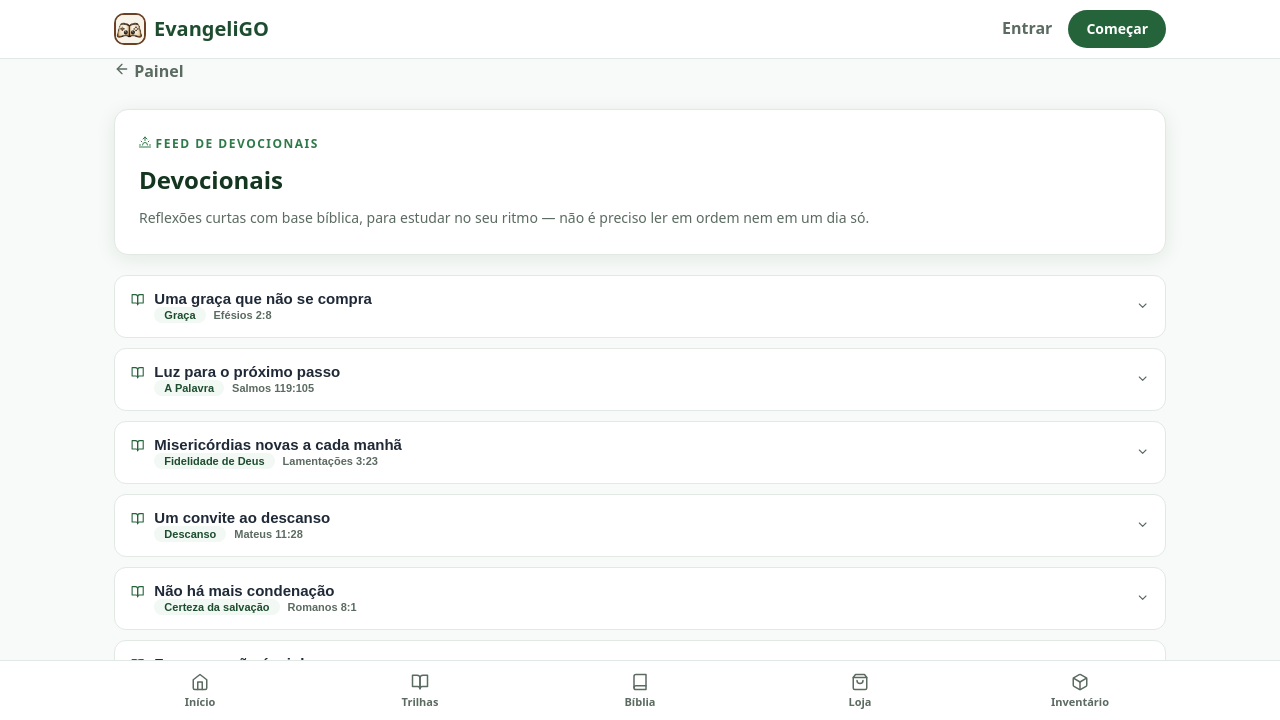
Test: FeedDevocionaisPage › expande um devocional ao clicar (accordion no lugar) e mostra reflexão e aplicação
Click the button "Uma graça que não se compra Graça Efésios 2:8" at (263,298), box [115,276,1165,337]
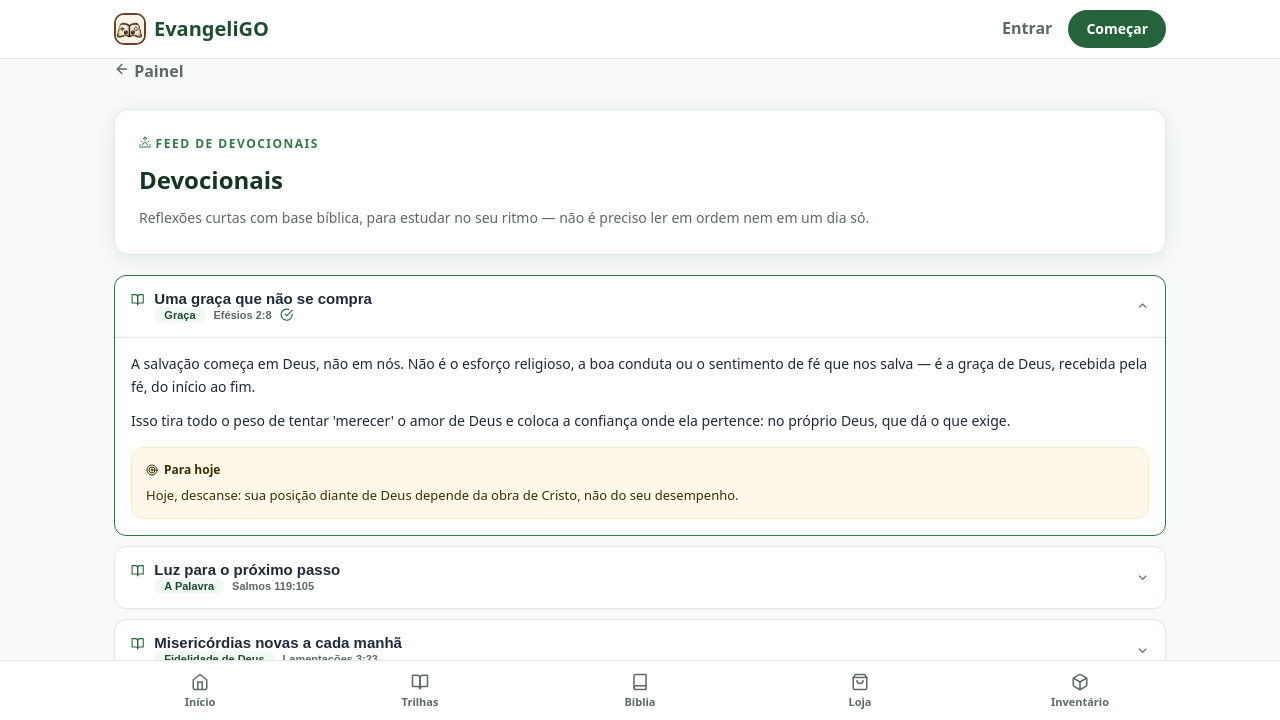
Expected: the button "Uma graça que não se compra Graça Efésios 2:8" is expanded
Expected: the text "A salvação começa em Deus, não em nós. Não é o esforço religioso, a boa conduta ou o sentimento de fé que nos salva — é " is shown, [131,354,1147,396]
Expected: the text "Hoje, descanse: sua posição diante de Deus depende da obra de Cristo, não do seu desempenho." is shown, [146,486,739,504]
Click the button "Uma graça que não se compra Graça Efésios 2:8" at (263,298), box [115,276,1165,337]
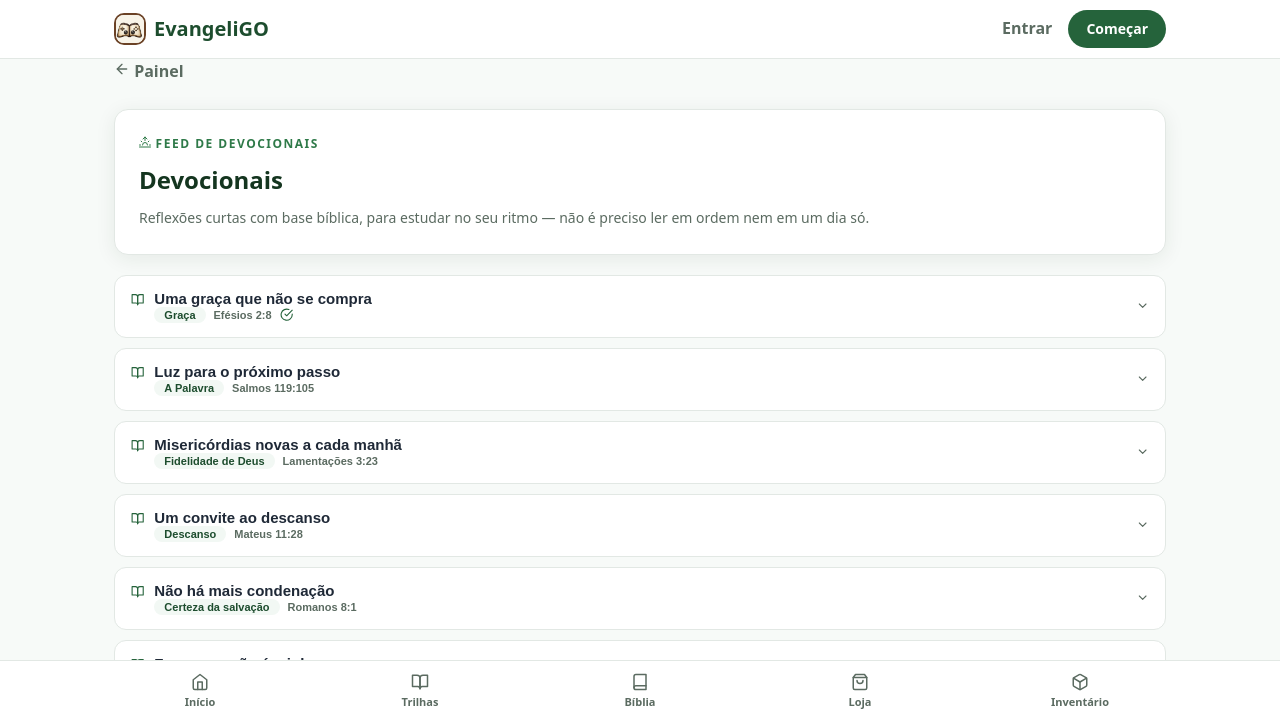
Expected: the button "Uma graça que não se compra Graça Efésios 2:8" is collapsed, [115,276,1165,337]
